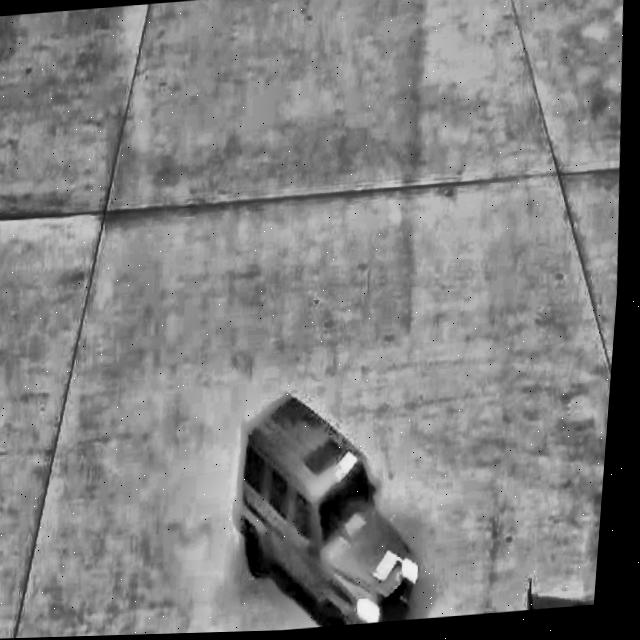light_vehicle: (230, 380, 444, 634)
